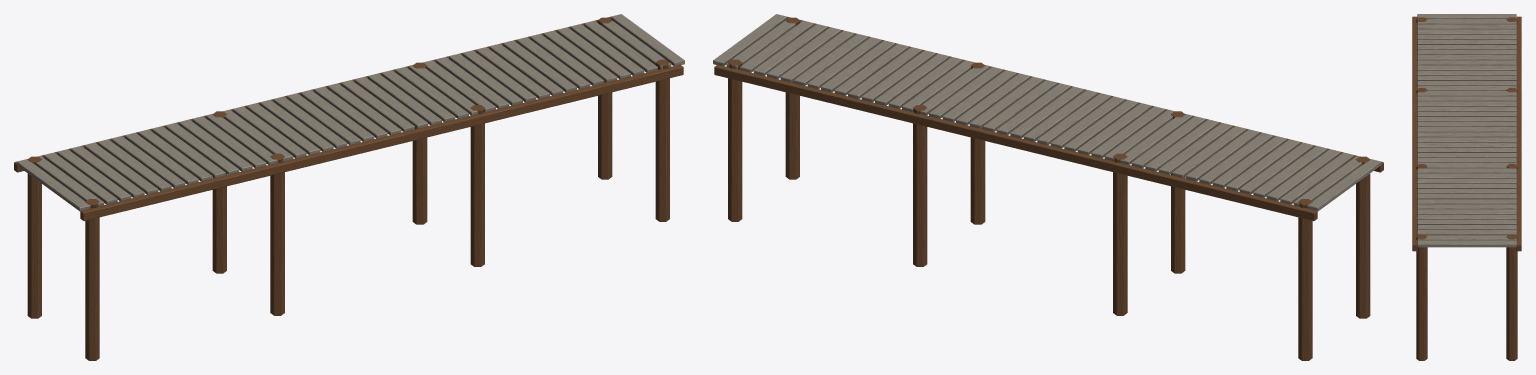
File: brygga_tex.glb
3 views of the same model, side by side, from view 1: azimuth 30°, elevation 25°; view 2: azimuth 150°, elevation 25°; view 3: azimuth 270°, elevation 25° (orthographic). The views are drawn at different scales.
Parts seen in each view (by area): view 1: brygga; view 2: brygga; view 3: brygga.
Part boxes in pixels (<box>): brygga: <box>14,14,684,360</box>; brygga: <box>713,14,1383,360</box>; brygga: <box>1412,14,1521,360</box>.
Size of the model in its own units: 12.1 by 3 by 2.42.
2 materials, 2 textured.
